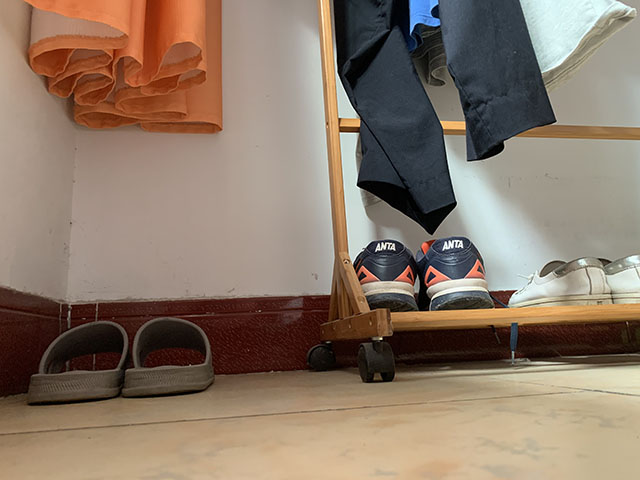slippers: (26, 320, 130, 407), (127, 318, 213, 397)
